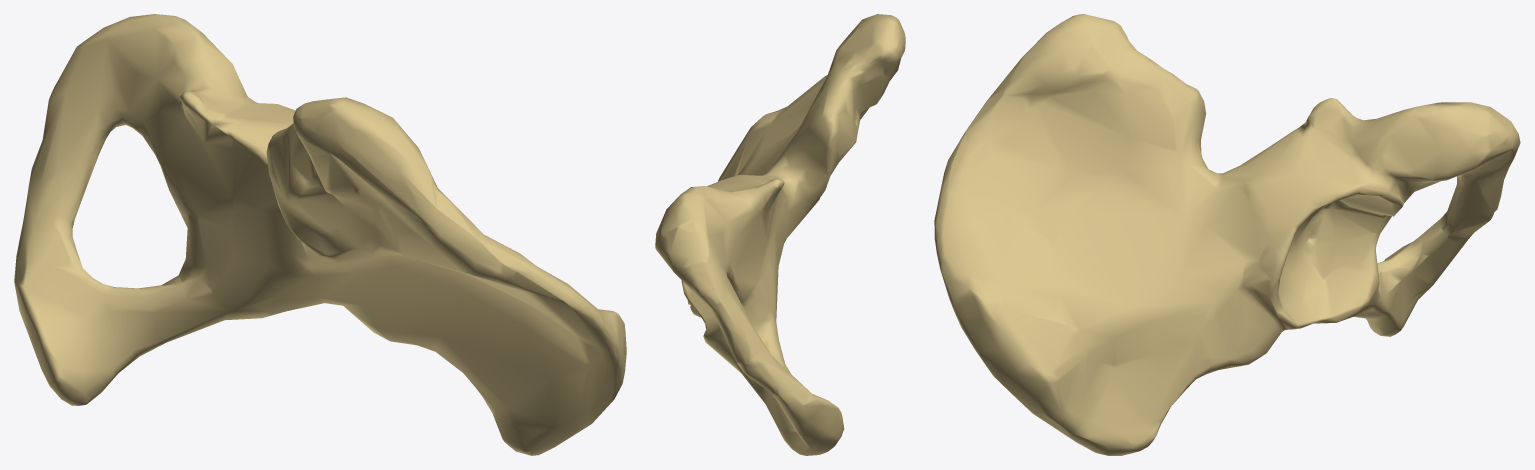
3 views of the same model, side by side, from view 1: azimuth 30°, elevation 25°; view 2: azimuth 150°, elevation 25°; view 3: azimuth 270°, elevation 25° (orthographic). The views are drawn at different scales.
Parts seen in each view (by area): view 1: 左侧髋骨; view 2: 左侧髋骨; view 3: 左侧髋骨.
Part boxes in pixels (box(x1,y1,x2,y2)): 左侧髋骨: box(14, 14, 626, 455); 左侧髋骨: box(655, 14, 905, 455); 左侧髋骨: box(934, 14, 1520, 455).
Bounding box in the file's own units: 0.1944 × 0.2105 × 0.3162.
